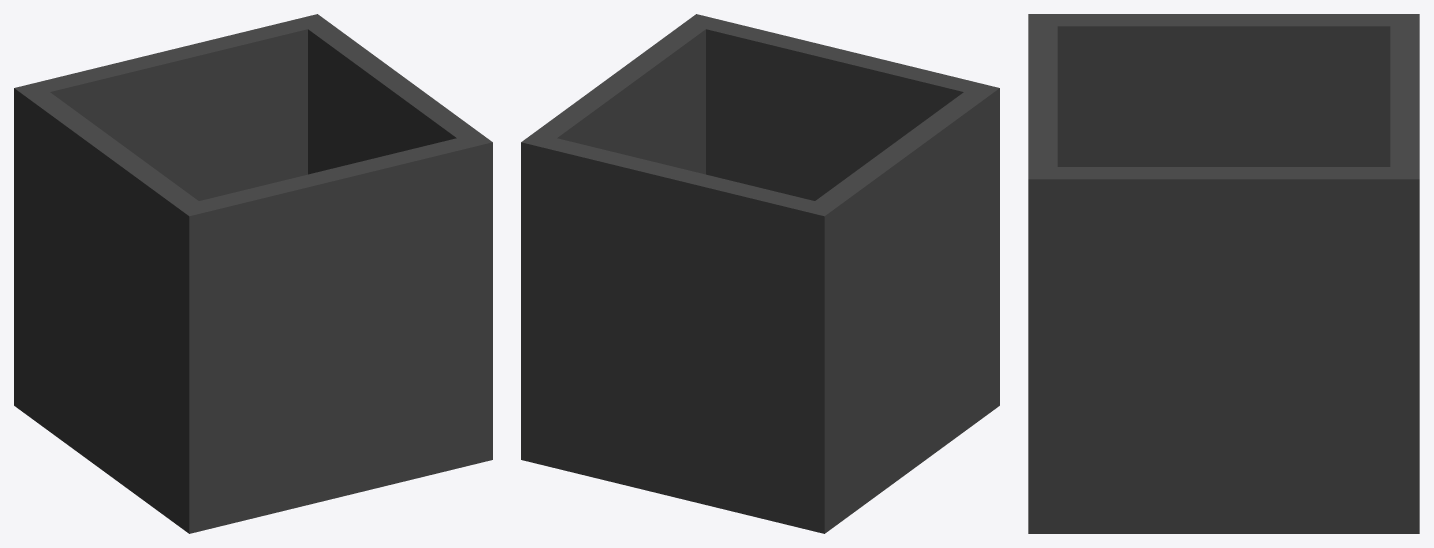
File: NextLevel.vox-0.obj
3 renders of one model, left to right at view 1: azimuth 30°, elevation 25°; view 2: azimuth 150°, elevation 25°; view 3: azimuth 270°, elevation 25°, orthographic. The views are drawn at different scales.
Bounding box in the file's own units: 4 × 4 × 4.
Materials: 1 (1 with a texture image).
